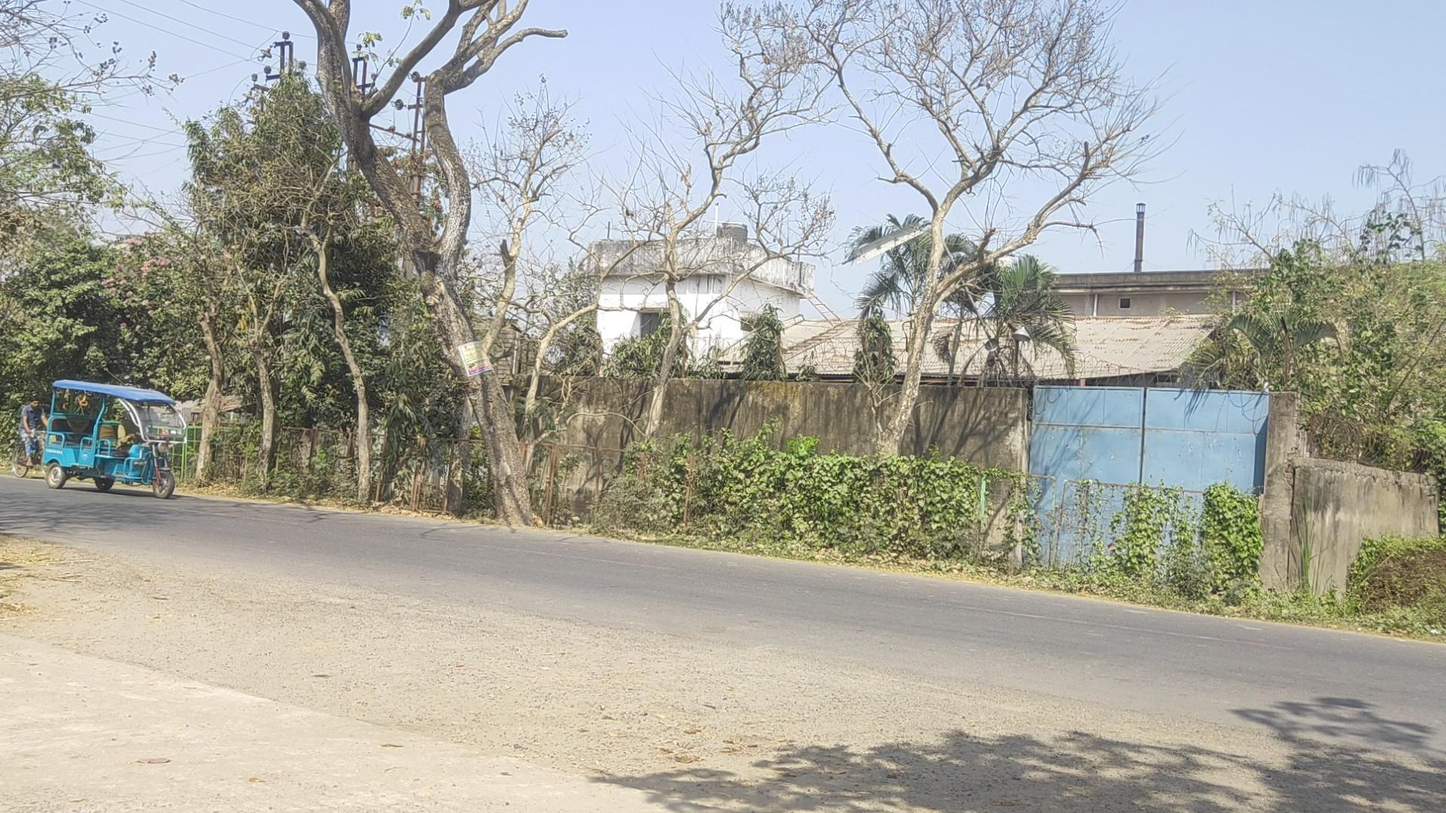Auto: (42, 379, 187, 500)
bike: (12, 396, 55, 480)
